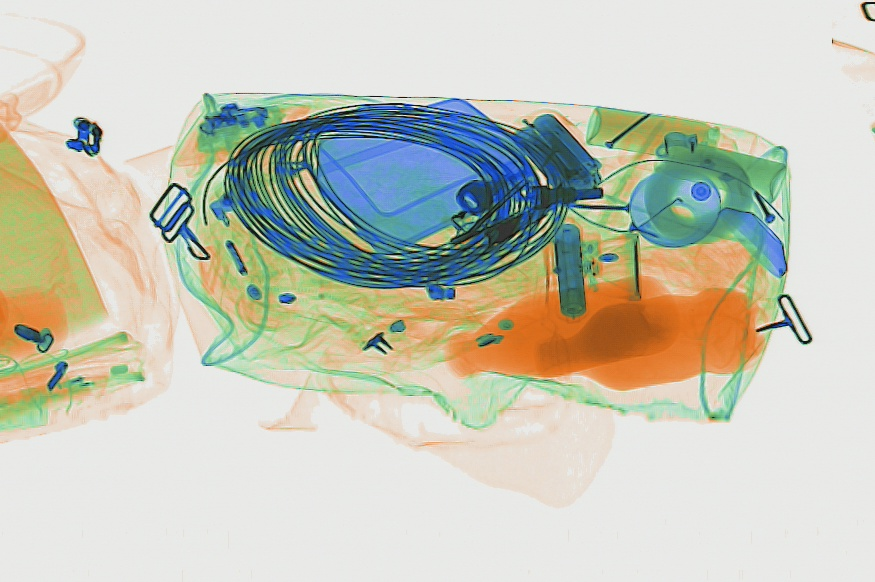powerbank: (508, 109, 602, 203)
pressure: (611, 127, 788, 206), (583, 105, 746, 175)
